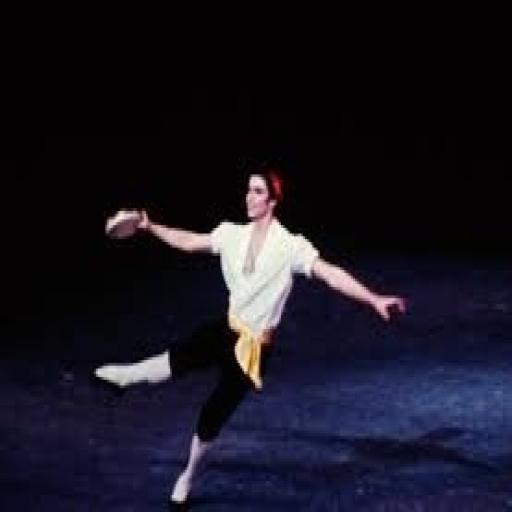dancing: (90, 160, 410, 510)
